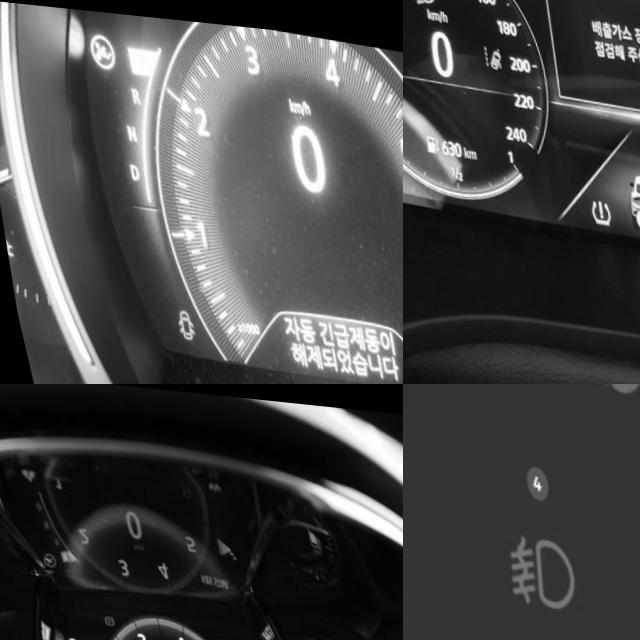Doors: (158, 304, 182, 336)
FrontFogLight: (475, 523, 565, 613)
